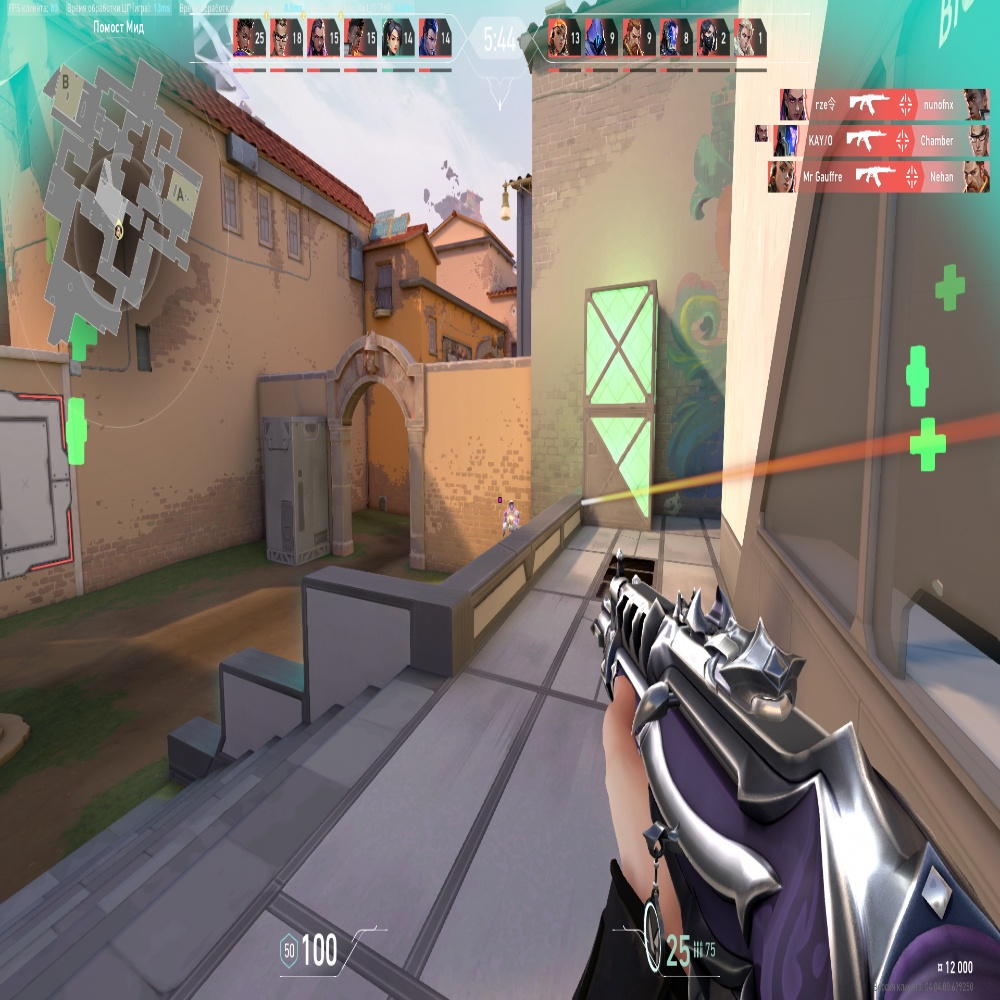body: (505, 511, 519, 533)
head: (509, 500, 514, 510)
